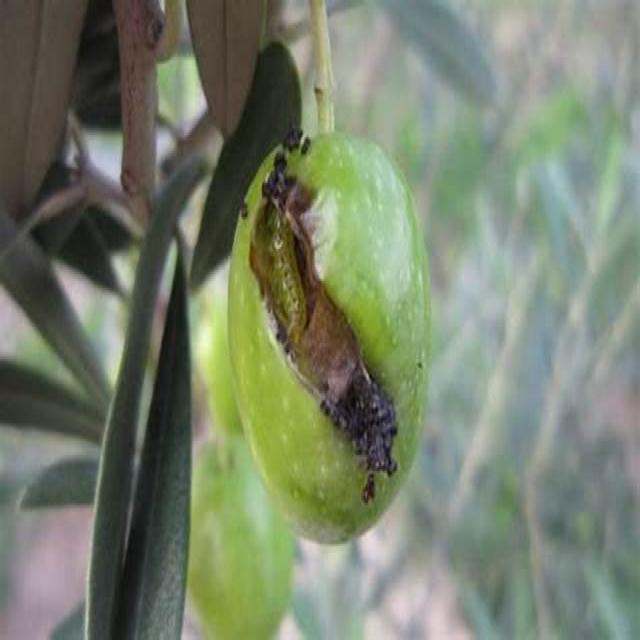Olive Fruit Fly: (228, 133, 430, 542)
